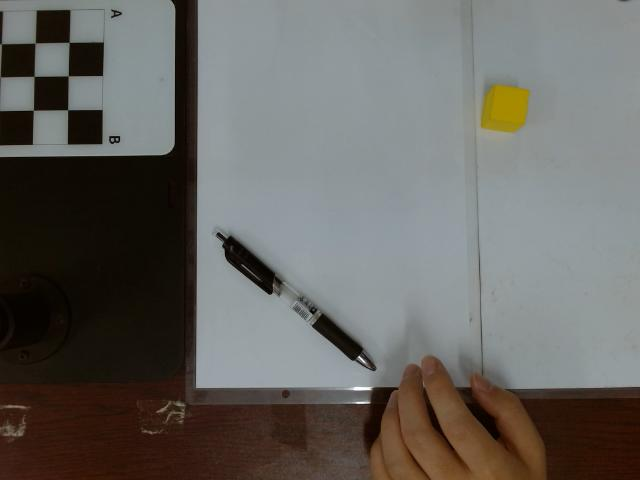PEN: (207, 227, 381, 379)
